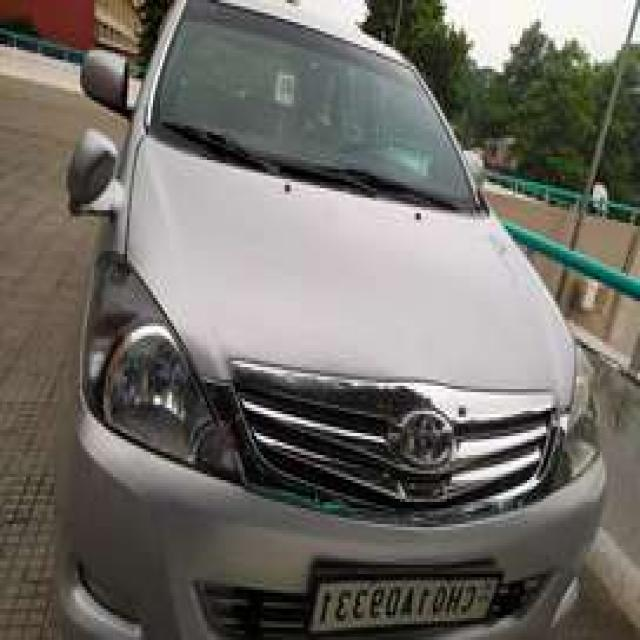license_plate: (306, 566, 505, 637)
